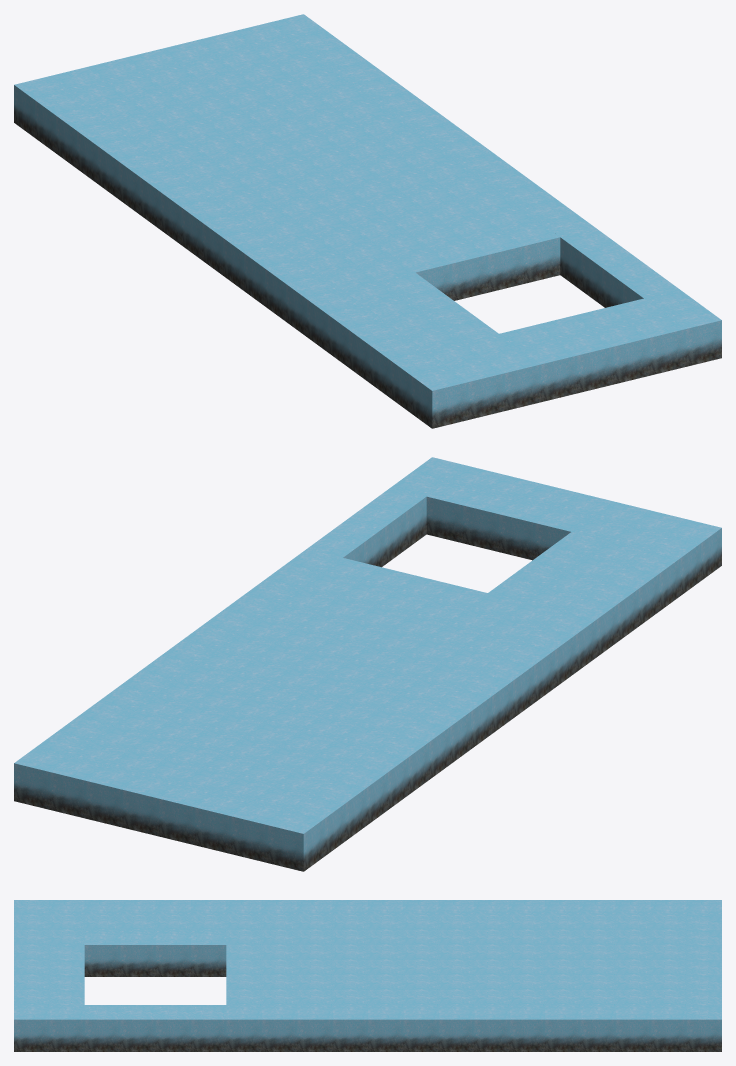
Rendered from Stage_Block_3_1_2F.fbx.
3 views of the same model, one above another, from view 1: azimuth 30°, elevation 25°; view 2: azimuth 150°, elevation 25°; view 3: azimuth 270°, elevation 25° (orthographic). The views are drawn at different scales.
Parts seen in each view (by area): view 1: san6_polySurface74; view 2: san6_polySurface74; view 3: san6_polySurface74.
Boxes of the visible parts, x1,y1,x2,y2 form: san6_polySurface74: (14, 14, 721, 428); san6_polySurface74: (14, 457, 721, 871); san6_polySurface74: (14, 900, 721, 1051).
Bounding box in the file's own units: 1600 × 200 × 4000.
1 material, 1 textured.
